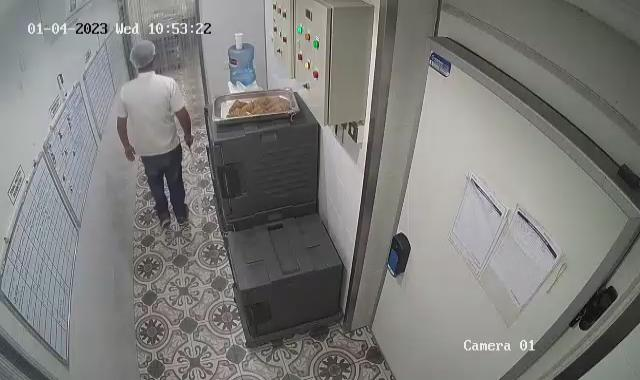hairnet: (129, 38, 156, 72)
